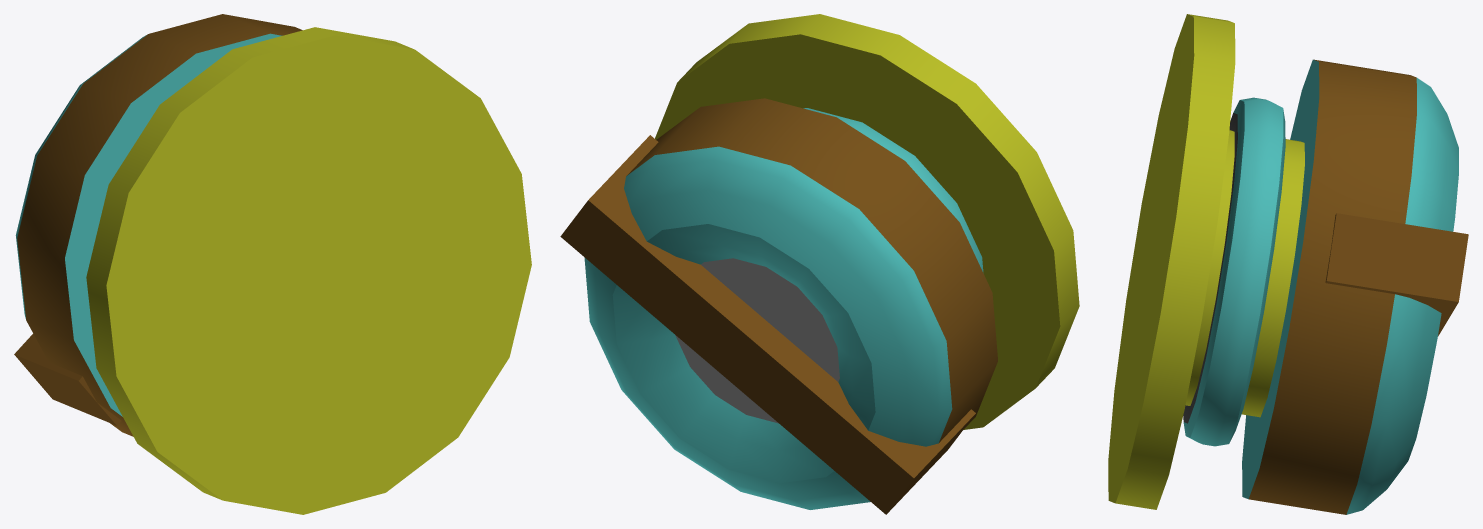
Rendered from SM_Transistor02.fbx.
3 views of the same model, side by side, from view 1: azimuth 30°, elevation 25°; view 2: azimuth 150°, elevation 25°; view 3: azimuth 270°, elevation 25° (orthographic). The views are drawn at different scales.
Parts seen in each view (by area): view 1: transistor2; view 2: transistor2; view 3: transistor2.
Part boxes in pixels (x1,y1,x2,y2): transistor2: (14, 14, 531, 514); transistor2: (560, 14, 1079, 514); transistor2: (1108, 14, 1468, 514).
Size of the model in its own units: 0.2027 by 0.2059 by 0.1476.
